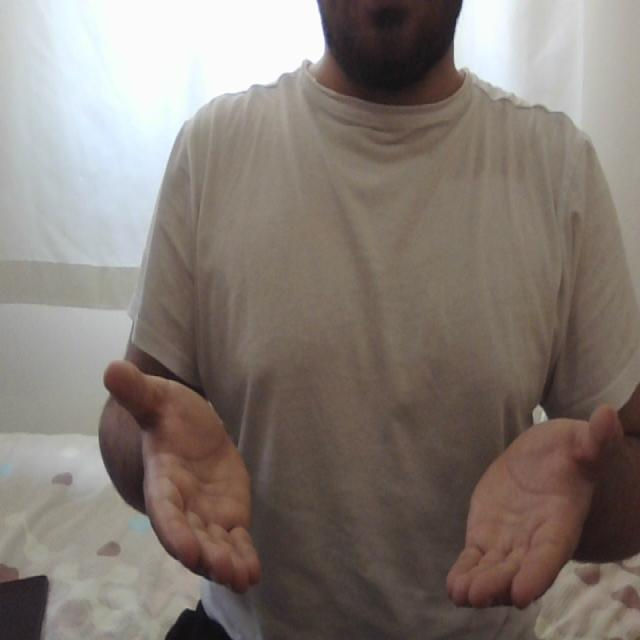Evet: (97, 354, 629, 610)
